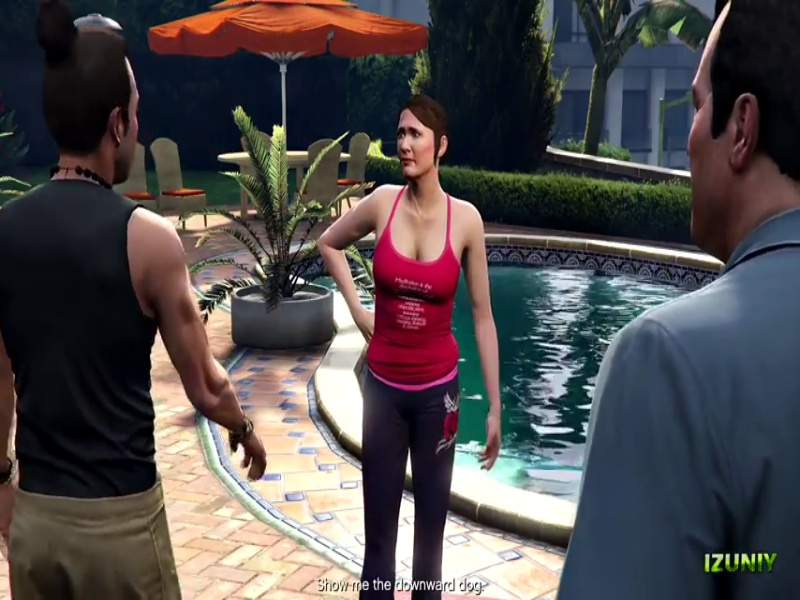human: (298, 72, 500, 587)
